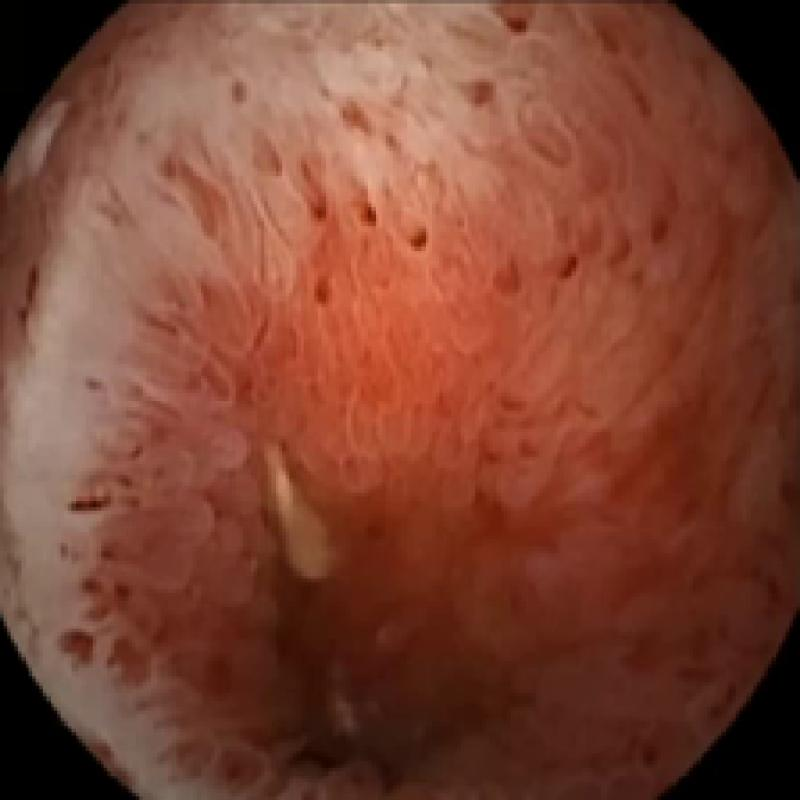bleeding: (100, 132, 789, 800)
